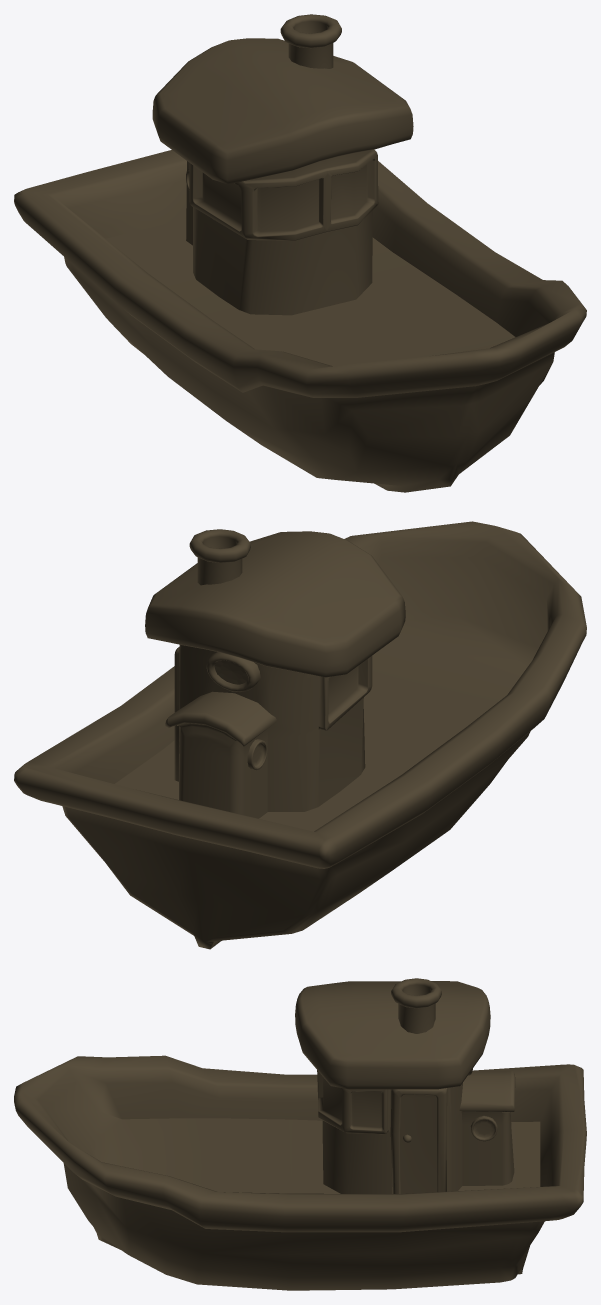
Rendered from Boat.fbx.
The picture shows the model from 3 angles, top to bottom: view 1: azimuth 30°, elevation 25°; view 2: azimuth 150°, elevation 25°; view 3: azimuth 270°, elevation 25°; orthographic projection. The views are drawn at different scales.
Parts seen in each view (by area): view 1: boat; view 2: boat; view 3: boat.
Part boxes in pixels (box(x1,y1,x2,y2)): boat: box(14, 14, 586, 492); boat: box(14, 521, 586, 949); boat: box(14, 978, 586, 1290).
Bounding box in the file's own units: 8202 × 9163 × 14960.
